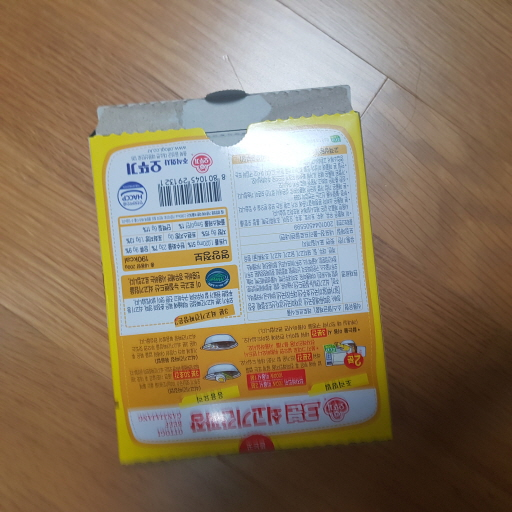Paper_0: (86, 82, 402, 471)
